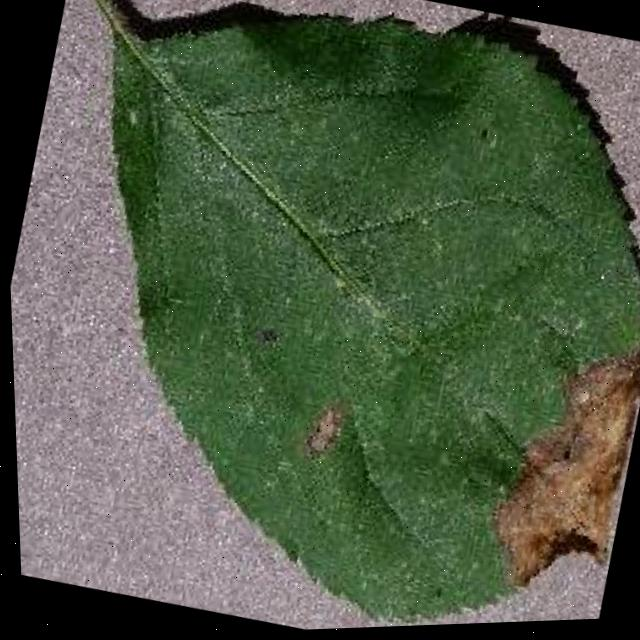black_rot: (461, 303, 640, 611), (281, 384, 360, 479)
